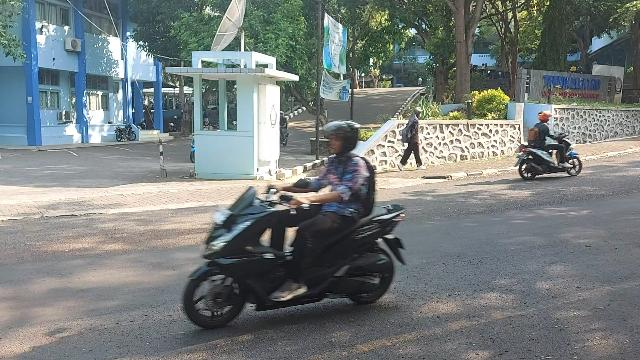helm: (322, 121, 362, 155), (540, 112, 553, 123)
motor: (185, 180, 408, 330), (516, 133, 583, 182)
